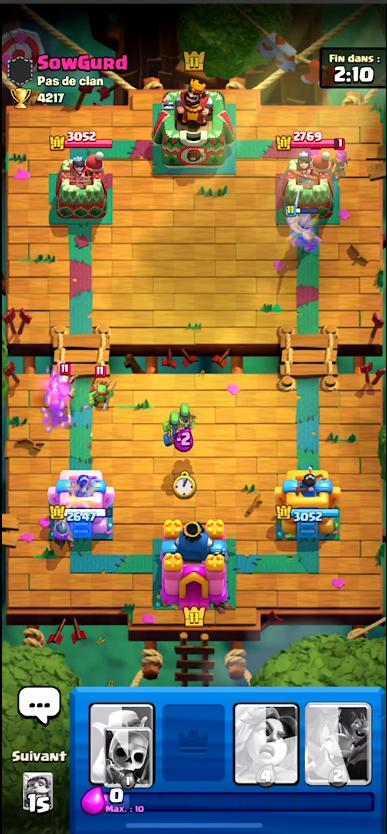chevalier: (287, 193, 322, 255)
gobelin_lances: (91, 367, 115, 406), (52, 365, 75, 395), (162, 410, 178, 443), (178, 402, 195, 430)
mousquetaire: (51, 515, 75, 550)
